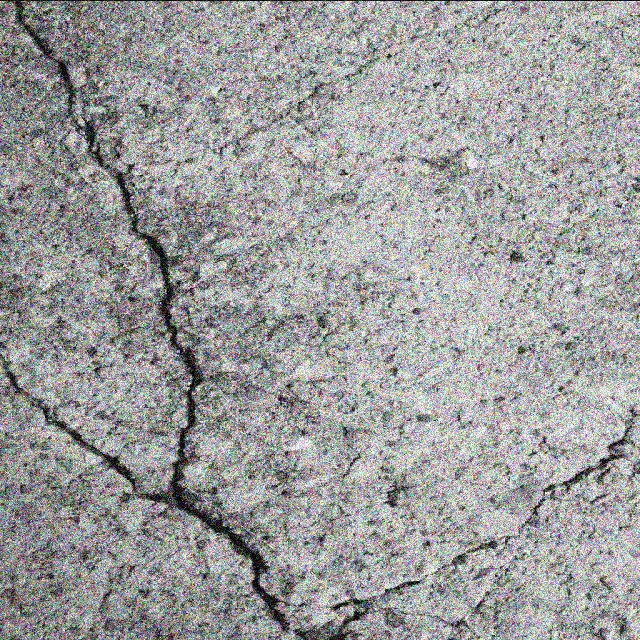SurfaceCrack: (8, 0, 228, 635)
